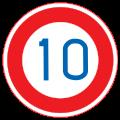Speed Limit -10-: (35, 34, 92, 81)
